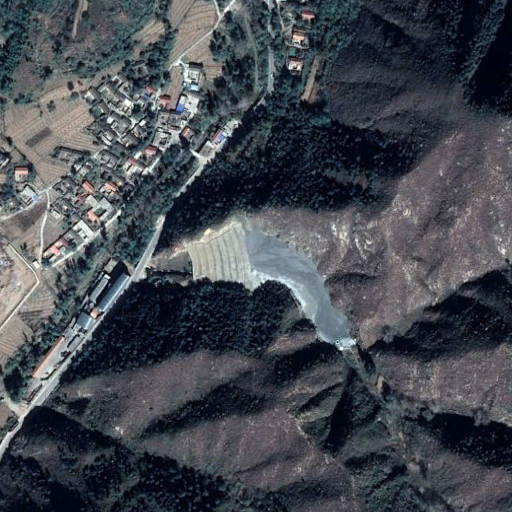tp: (188, 219, 357, 349)
